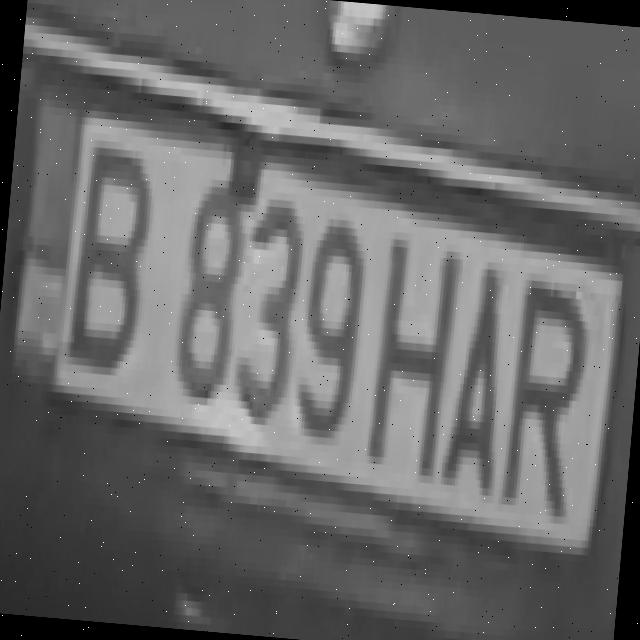Autre: (7, 100, 618, 560)
